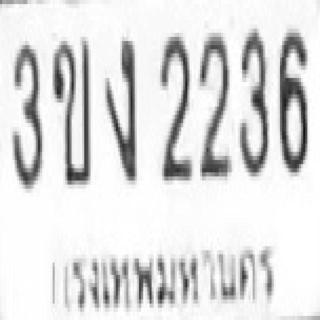A02: (50, 35, 90, 183)
A07: (103, 33, 135, 181)
N02: (157, 31, 191, 178), (197, 31, 228, 174)
N03: (10, 39, 42, 187), (238, 25, 268, 172)
N06: (277, 25, 308, 172)
P04: (44, 237, 282, 316)
